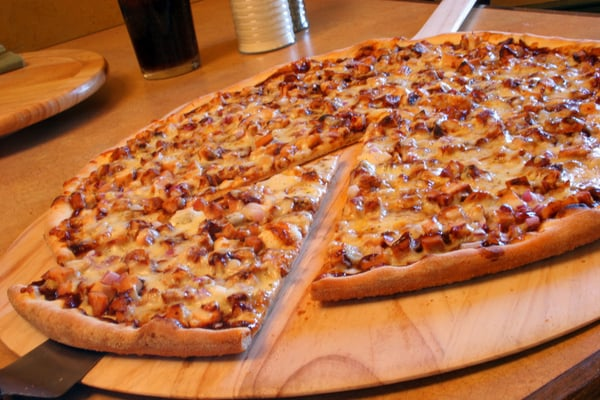pizza: (116, 0, 203, 80), (230, 0, 297, 55)
